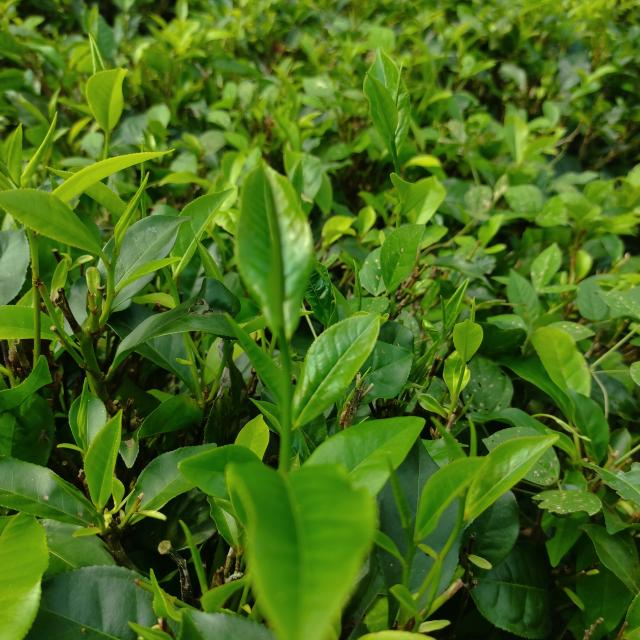unopened_leaf: (252, 172, 300, 362), (12, 107, 69, 197), (379, 446, 425, 551), (104, 164, 158, 253), (169, 511, 220, 602), (362, 69, 398, 160), (416, 548, 452, 626), (71, 374, 102, 464), (346, 254, 373, 320), (434, 288, 458, 348), (462, 409, 486, 466), (108, 483, 142, 520), (390, 56, 412, 108), (463, 289, 482, 333)
